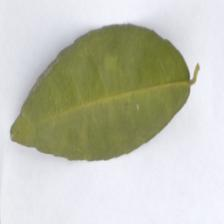healthy: (10, 20, 201, 163)
